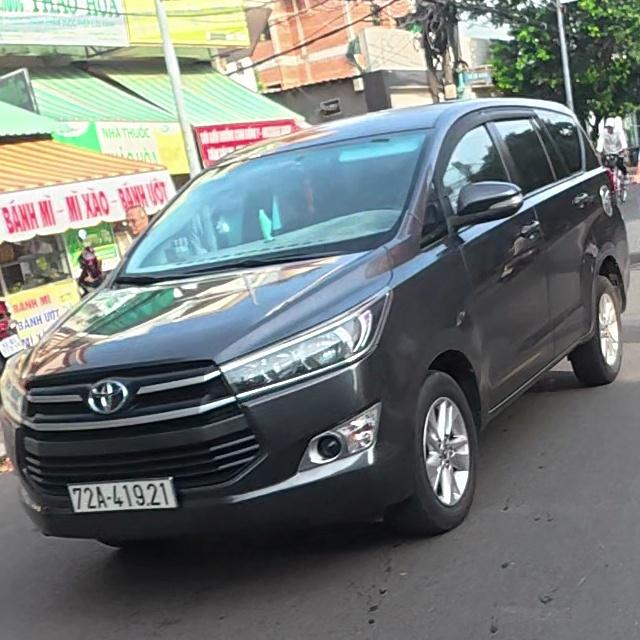license-plate: (68, 478, 177, 512)
